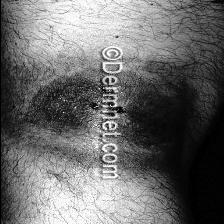Toxin: (24, 68, 188, 144)
